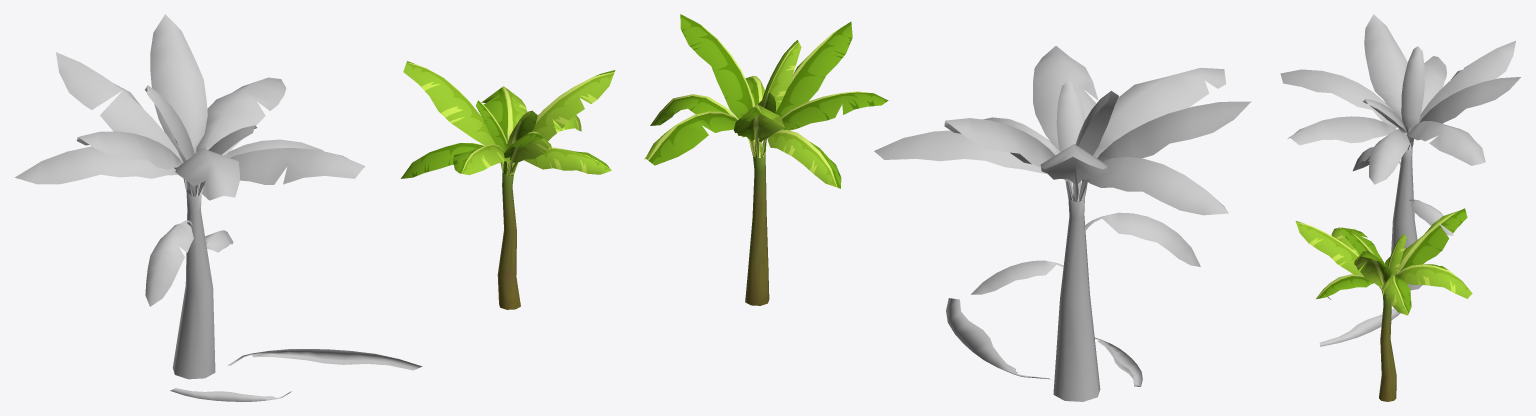
Rendered from SM_Banana.fbx.
3 renders of one model, left to right at view 1: azimuth 30°, elevation 25°; view 2: azimuth 150°, elevation 25°; view 3: azimuth 270°, elevation 25°, orthographic. The views are drawn at different scales.
Parts seen in each view (by area): view 1: SN_Banana1, SN_Banana2, SN_Banana1_leaf_dry1, SN_Banana1_leaf_dry2; view 2: SN_Banana1, SN_Banana2, SN_Banana1_leaf_dry1, SN_Banana1_leaf_dry2; view 3: SN_Banana1, SN_Banana2, SN_Banana1_leaf_dry1.
Part boxes in pixels (x1,y1,x2,y2): SN_Banana1: (15,14,365,379); SN_Banana2: (401,61,615,309); SN_Banana1_leaf_dry1: (227,349,422,370); SN_Banana1_leaf_dry2: (170,388,291,401); SN_Banana1: (874,46,1251,401); SN_Banana2: (644,14,888,305); SN_Banana1_leaf_dry1: (946,298,1050,379); SN_Banana1_leaf_dry2: (1094,337,1142,386); SN_Banana1: (1280,14,1520,290); SN_Banana2: (1295,208,1472,401); SN_Banana1_leaf_dry1: (1319,308,1400,346).
Size of the model in its own units: 11739 by 5924 by 5772.
